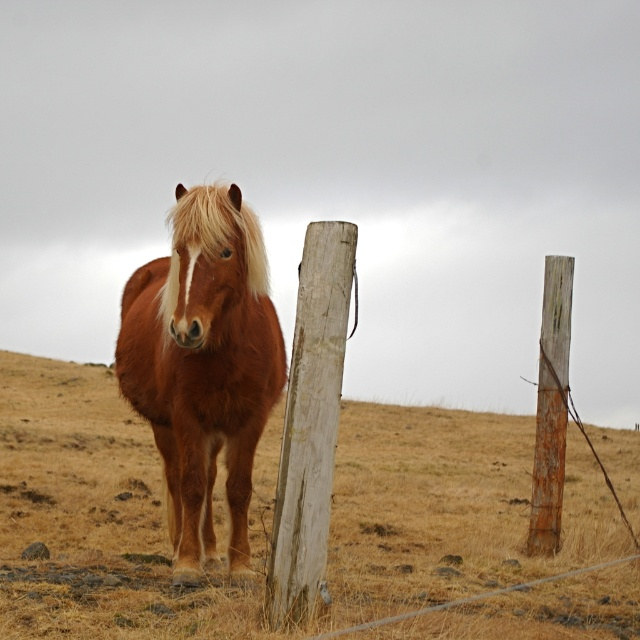Horse: (116, 182, 283, 584)
